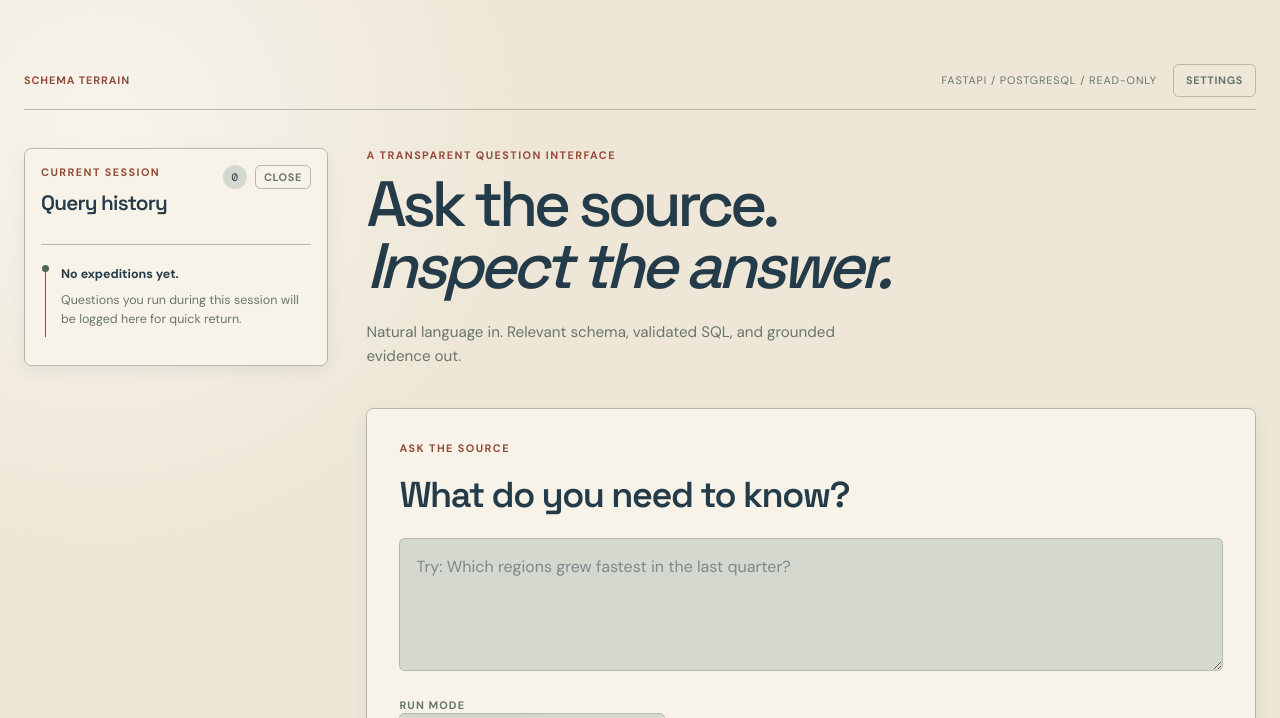
Milestone 10 application › can hide history and restore the centered workspace
The width and height of the screenshot is (1280, 718).
Expected: the element "Query history" is shown, [24,148,328,366]
Click the button with aria-label "hide query history". click: (283, 177)
box: [255,165,311,189]
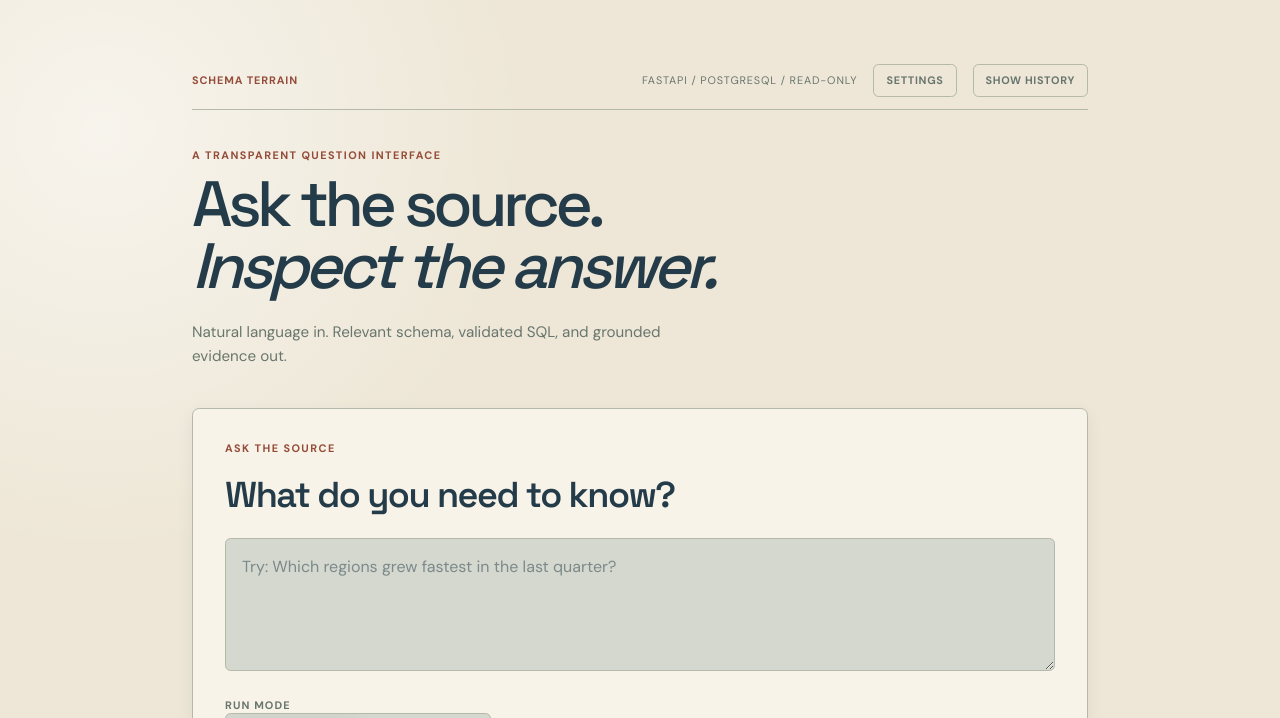
Result: the heading "Query history" is gone
Result: the button "Show history" is shown
Click the button "Show history". click: (1030, 80)
box: [972,64,1088,96]
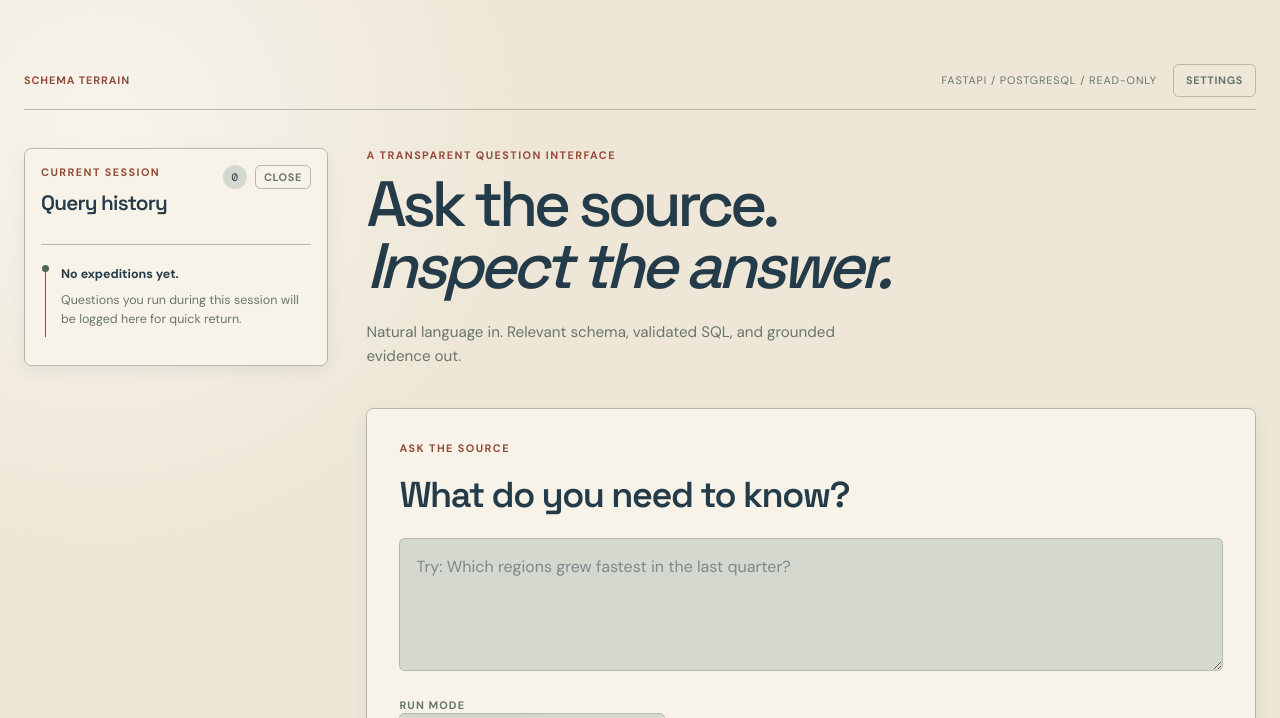
Result: the element "Query history" is shown at [24,148,328,366]
